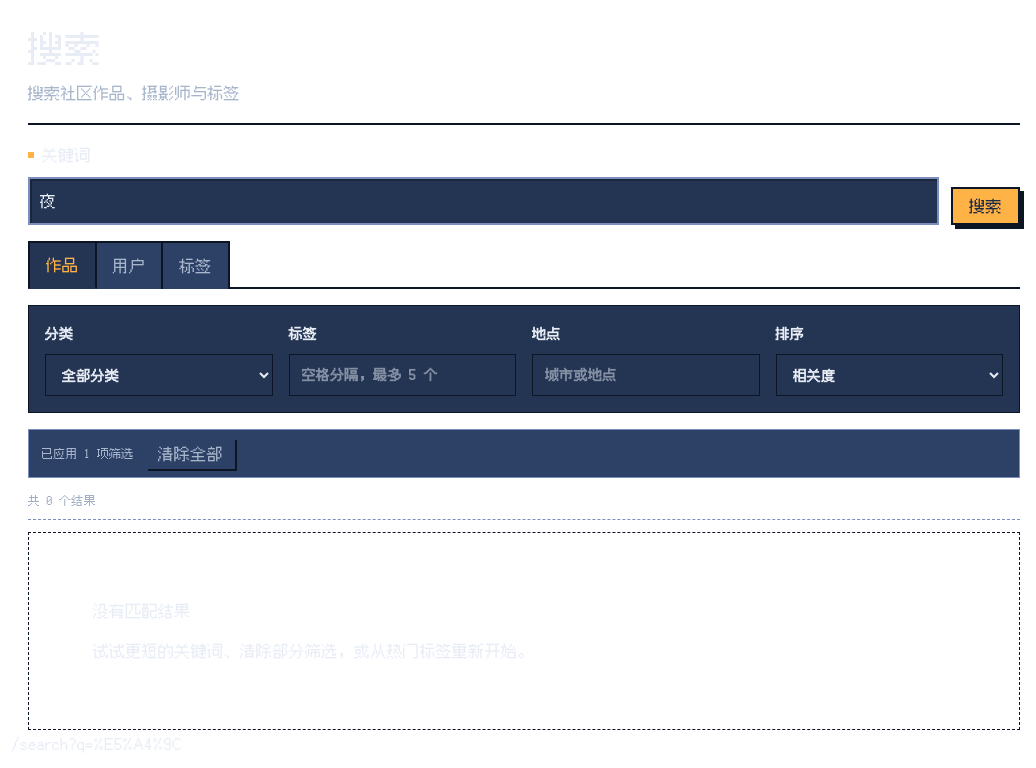
Test case: SearchPage · 标签 Tab › 点「标签」切换到 tab=tags，并把前缀交给标签搜索端点
Click the tab "标签".
click(196, 265)  # box top-left (161, 241), bottom-right (230, 289)
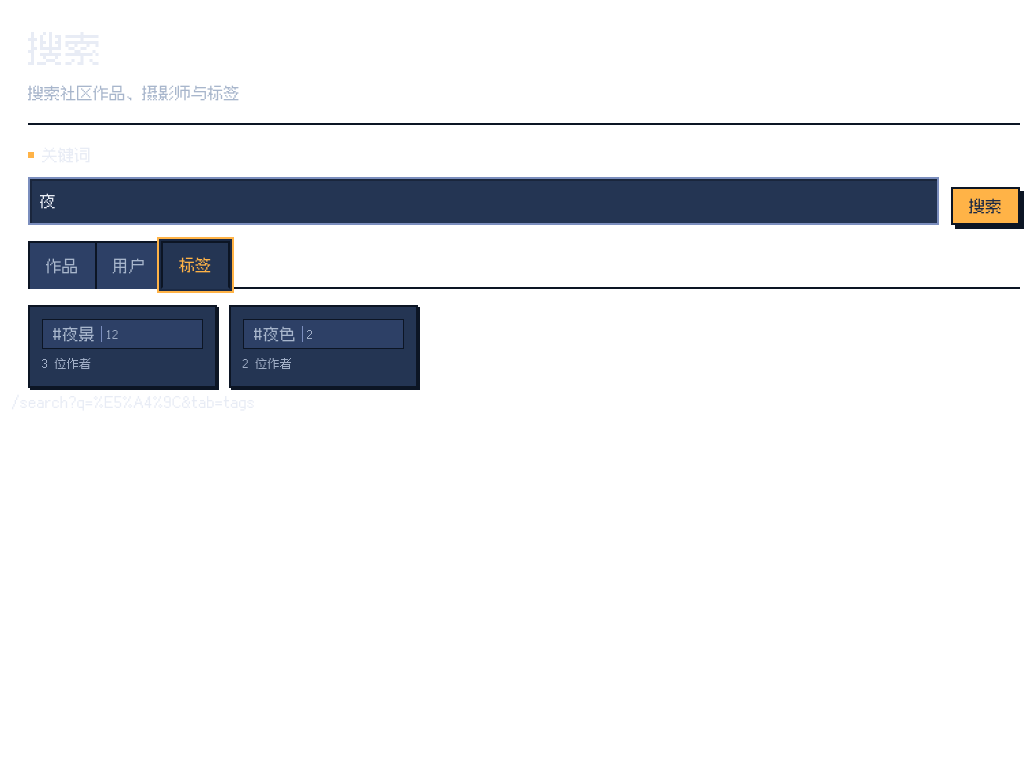
Expected: the text with test id "location" shows "tab=tags", top-left (12, 391), bottom-right (256, 412)
Expected: the list named "标签搜索结果" shows "#夜景", top-left (28, 305), bottom-right (418, 388)
Expected: the list named "标签搜索结果" shows "3 位作者", top-left (28, 305), bottom-right (418, 388)
